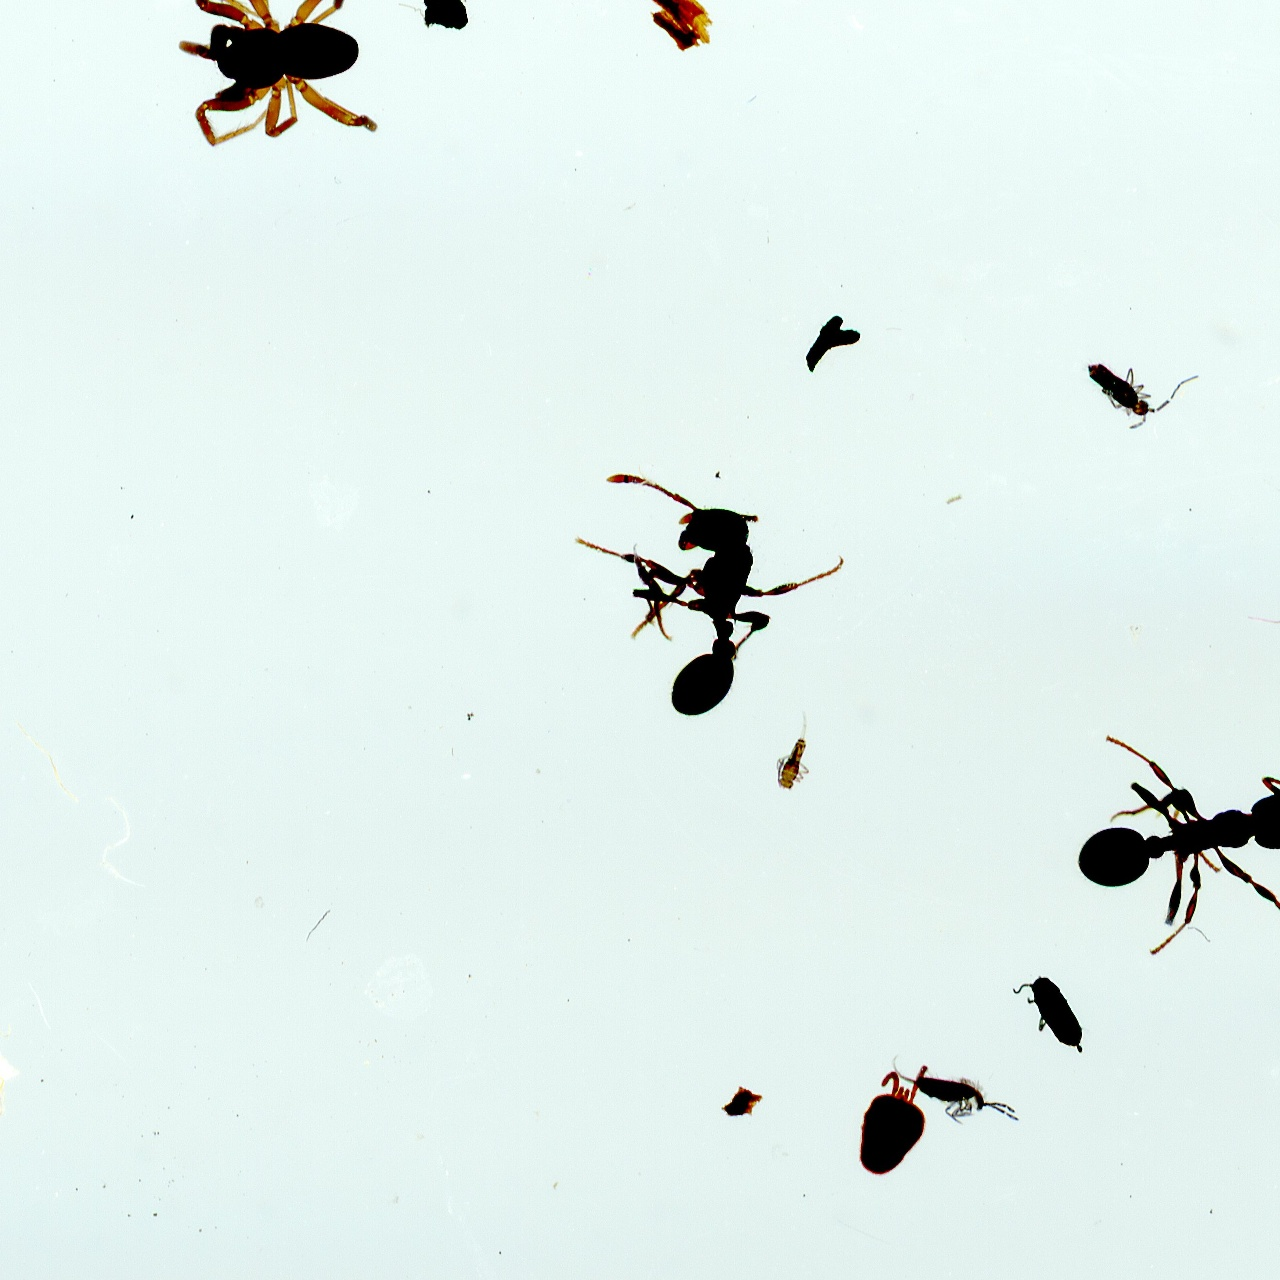arthropod: (567, 459, 847, 721), (1043, 681, 1280, 983), (176, 0, 382, 150), (874, 1040, 1039, 1141), (1084, 356, 1205, 435), (852, 1061, 931, 1178), (1010, 965, 1098, 1068), (768, 699, 830, 796)
